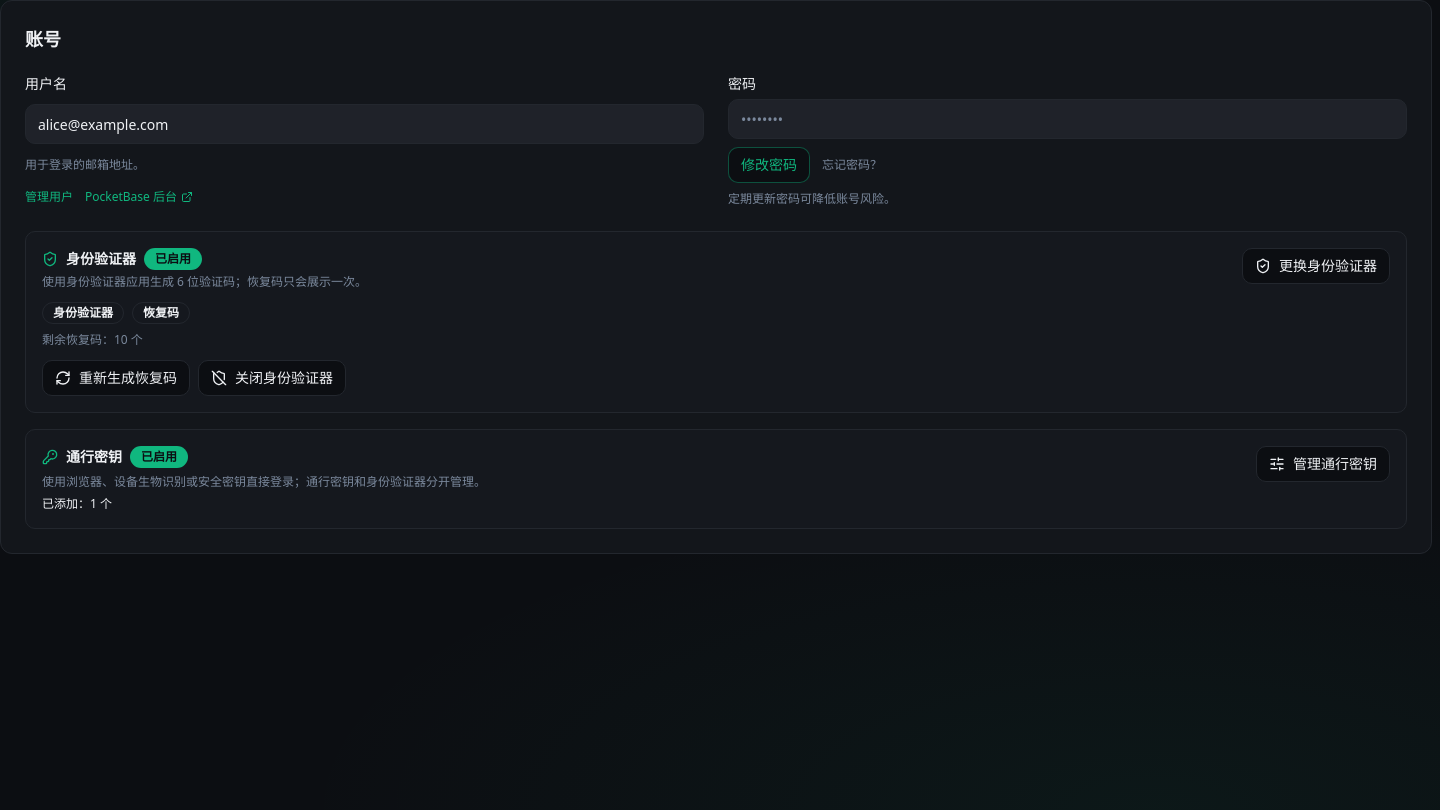
AccountSettingsSection account security dialogs › uses password-manager friendly form metadata for passkey registration
Expected: the text "剩余恢复码：10 个" is shown, [42,331,143,348]
Expected: the text "已添加：1 个" is shown, [42,495,112,512]
Click the button "管理通行密钥": (1323, 464) [1256,446,1390,482]
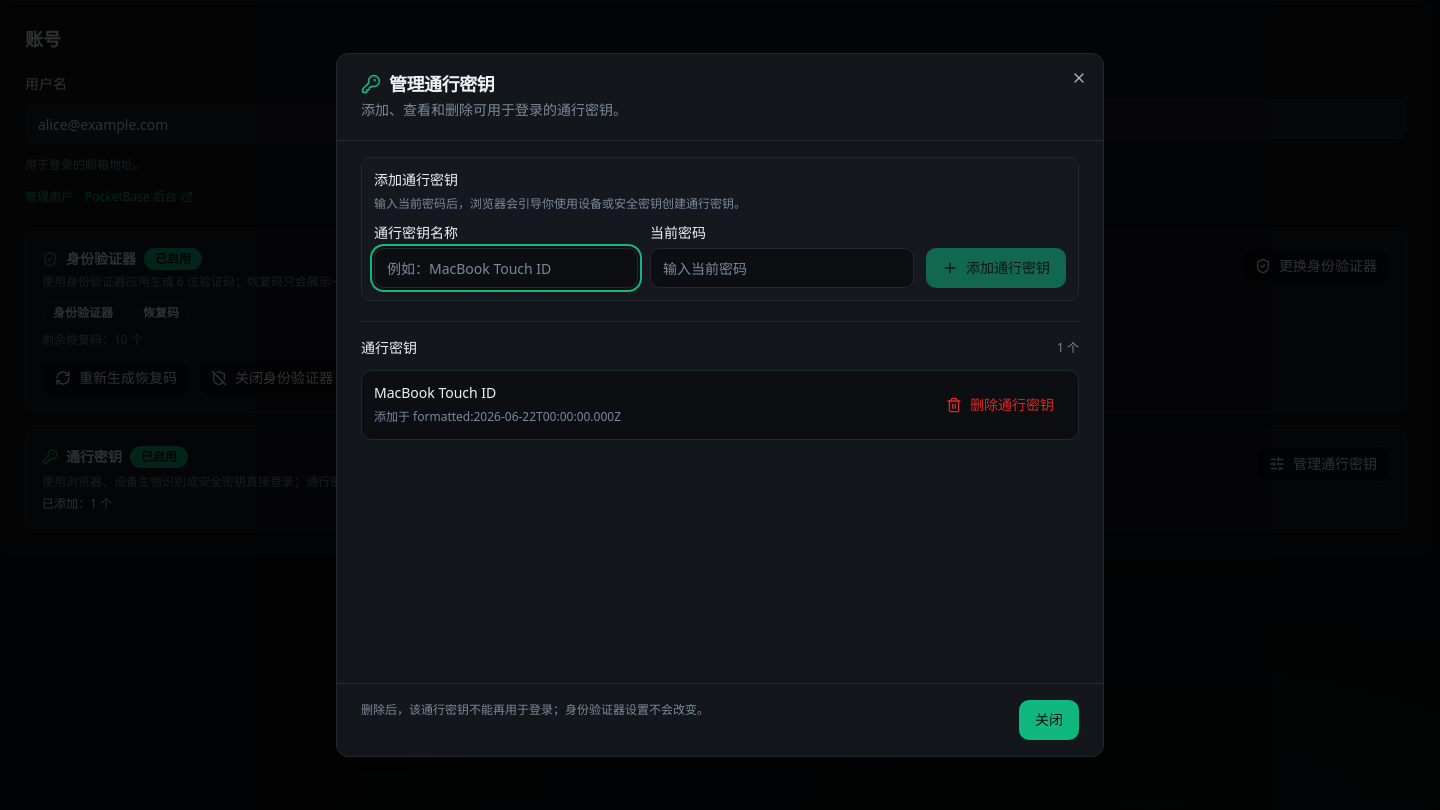
Expected: the form named "username" holds "alice@example.com", [361,157,1079,301]
